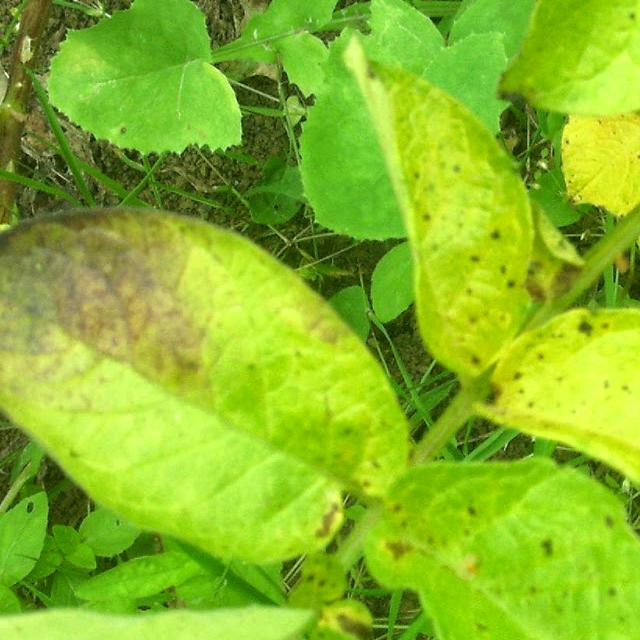Tomato Septoria leaf spot: (354, 54, 542, 402), (365, 453, 640, 640), (492, 307, 640, 514)
